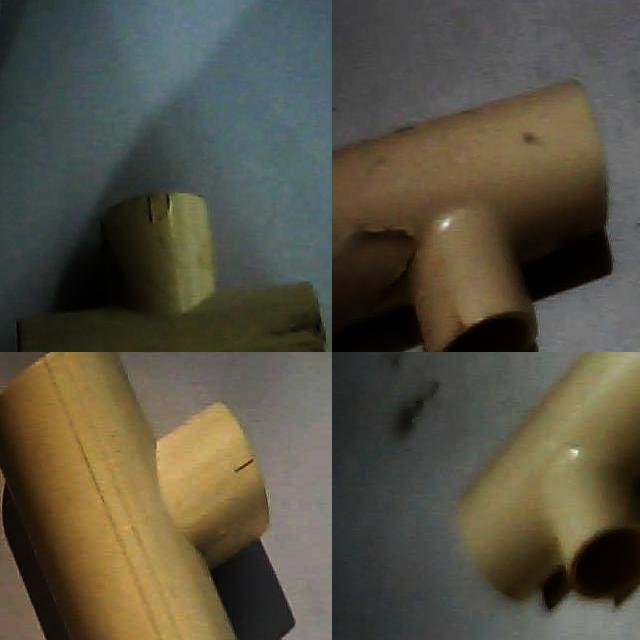Defective: (332, 205, 432, 339)
T Joint: (0, 352, 270, 640), (332, 82, 607, 352), (17, 193, 328, 352), (457, 352, 640, 604)
